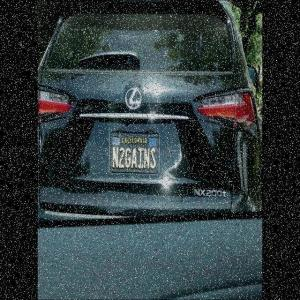Plate: (109, 132, 159, 172)
